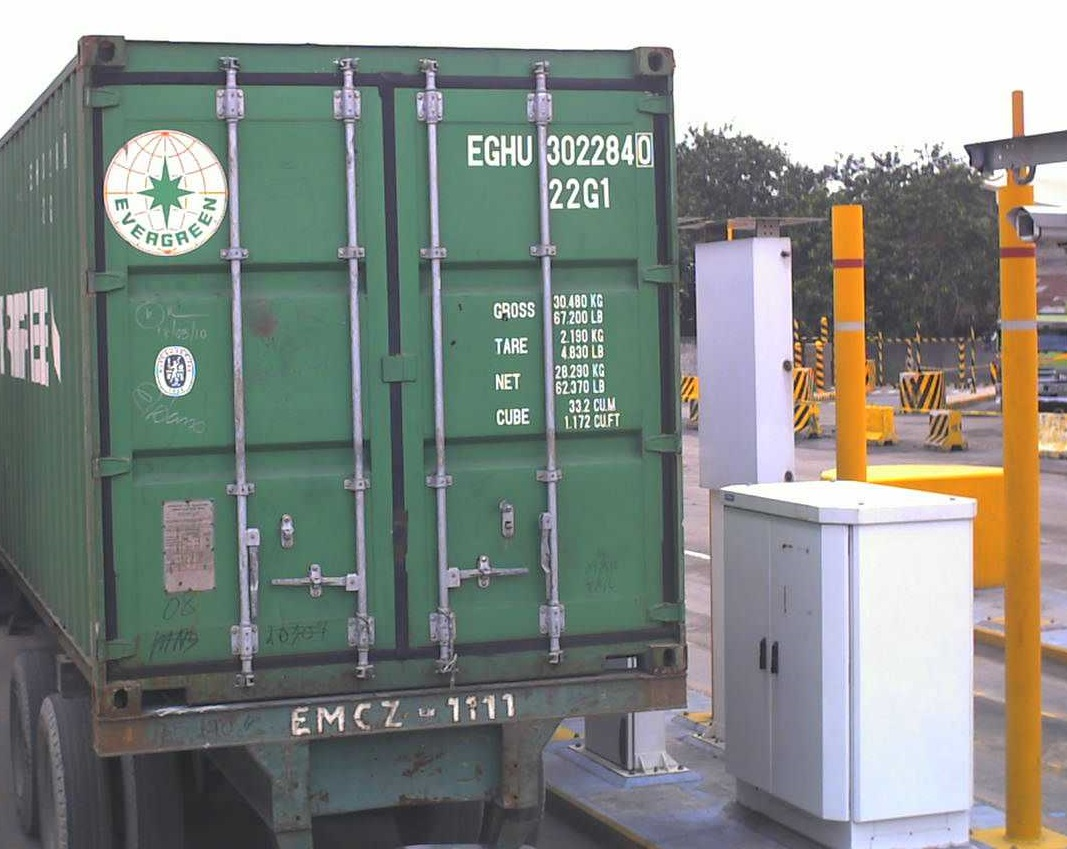container_door: (79, 28, 674, 725)
